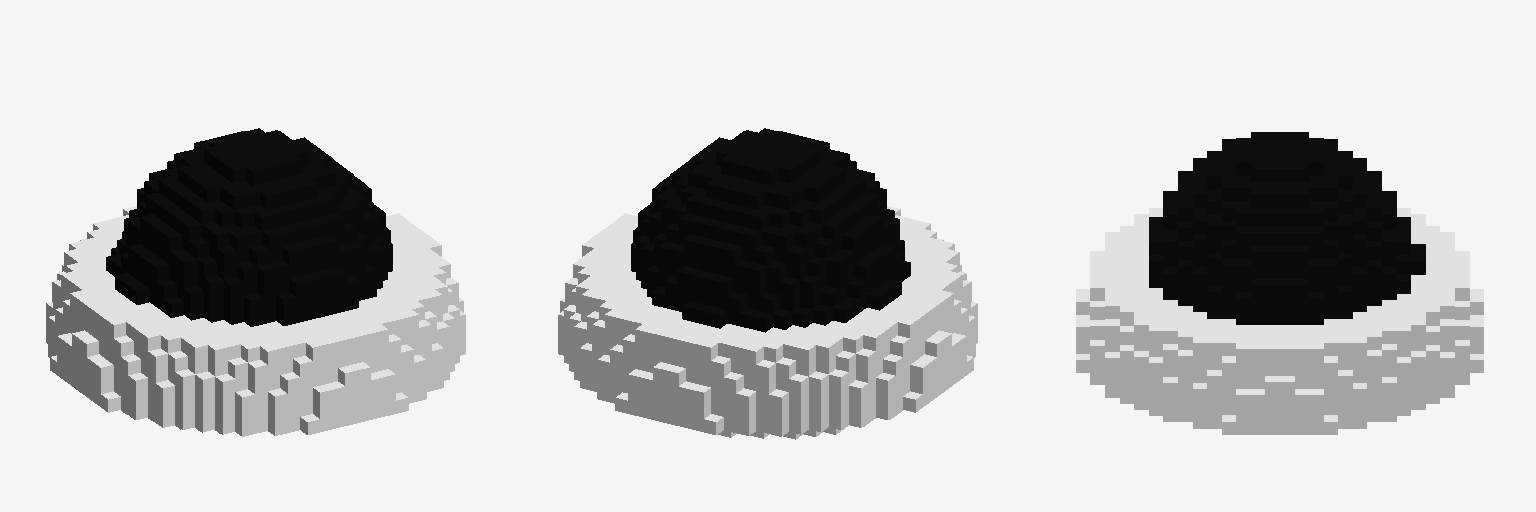
3 renders of one model, left to right at view 1: azimuth 30°, elevation 25°; view 2: azimuth 150°, elevation 25°; view 3: azimuth 270°, elevation 25°, orthographic.
Parts seen in each view (by area): view 1: ufo; view 2: ufo; view 3: ufo.
Part boxes in pixels (x1,y1,x2,y2): ufo: (46,128,465,436); ufo: (558,128,977,439); ufo: (1076,132,1483,434).
Bounding box in the file's own units: 28 × 16 × 28.
Materials: 1 (1 with a texture image).